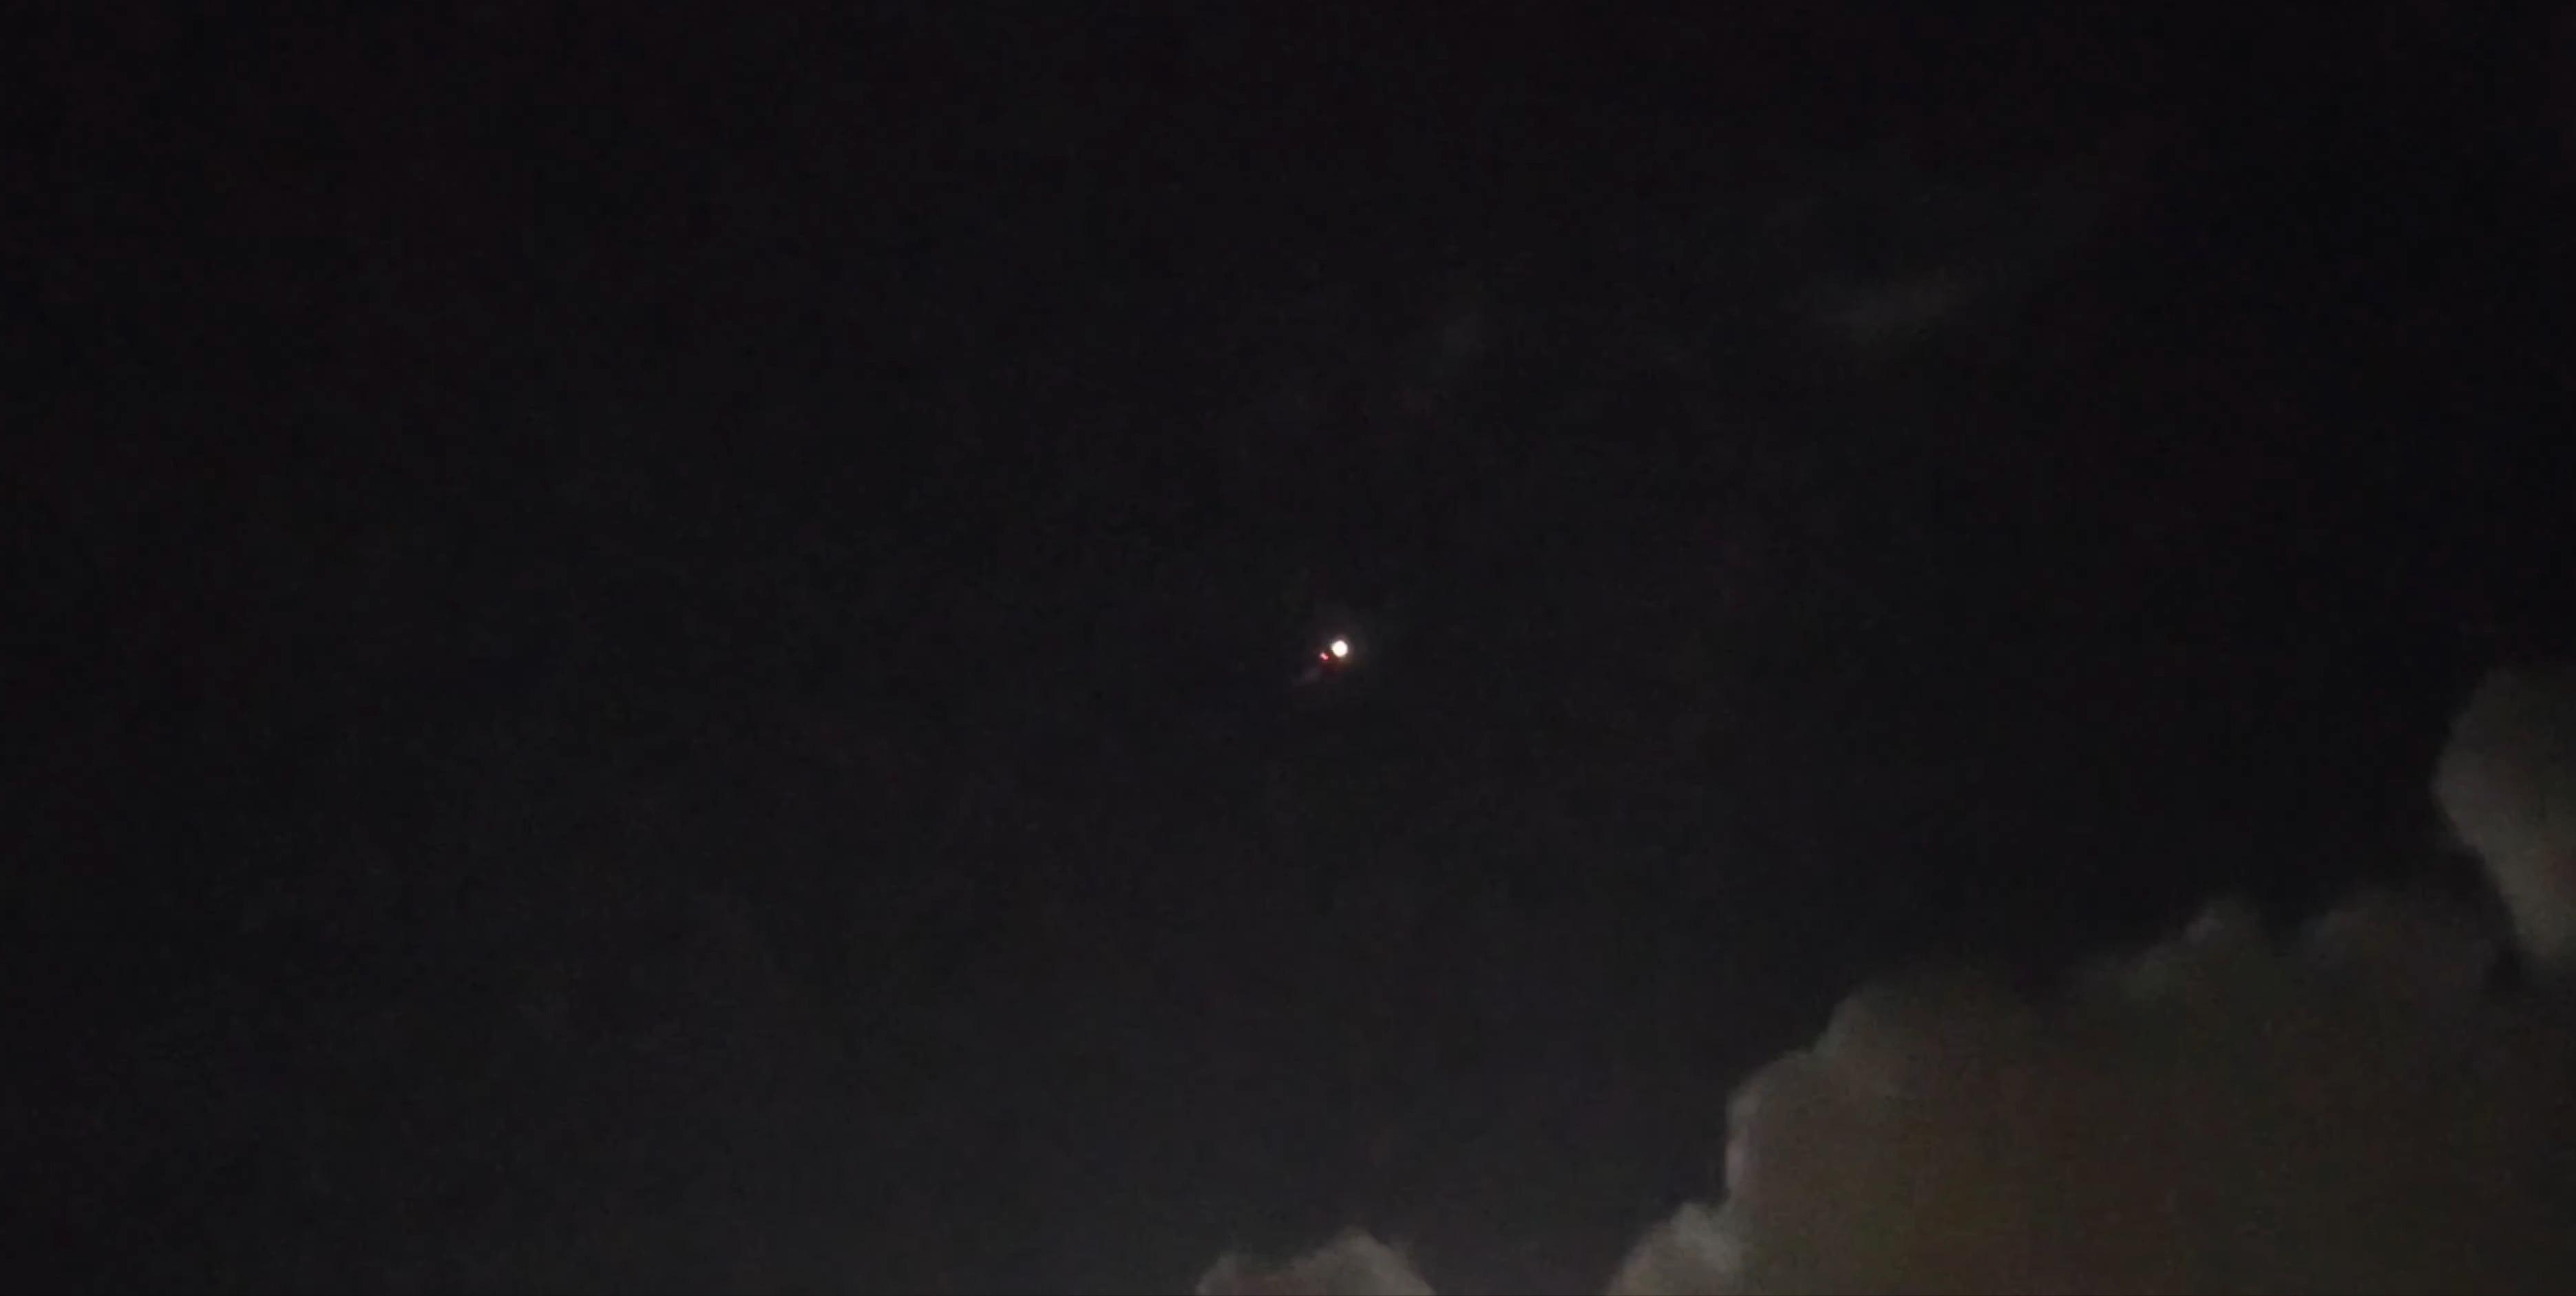Plane: (1238, 603, 1421, 714)
